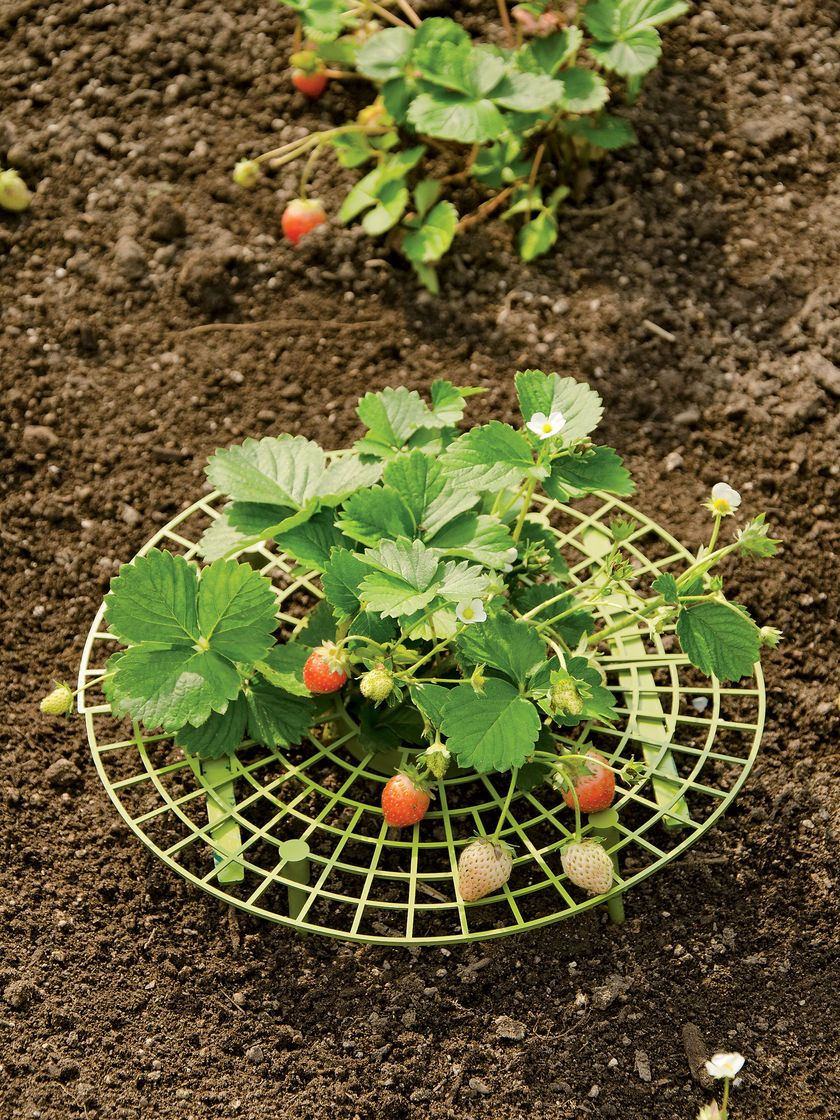ripe_strawberry: (554, 746, 619, 815), (381, 771, 434, 830), (299, 644, 354, 698), (281, 195, 332, 250), (291, 55, 331, 100)
unripe_strawberry: (455, 833, 518, 904), (558, 833, 618, 899), (548, 674, 588, 721), (1, 166, 39, 215), (357, 667, 400, 703), (39, 680, 79, 717), (424, 743, 454, 781), (233, 161, 264, 192)
